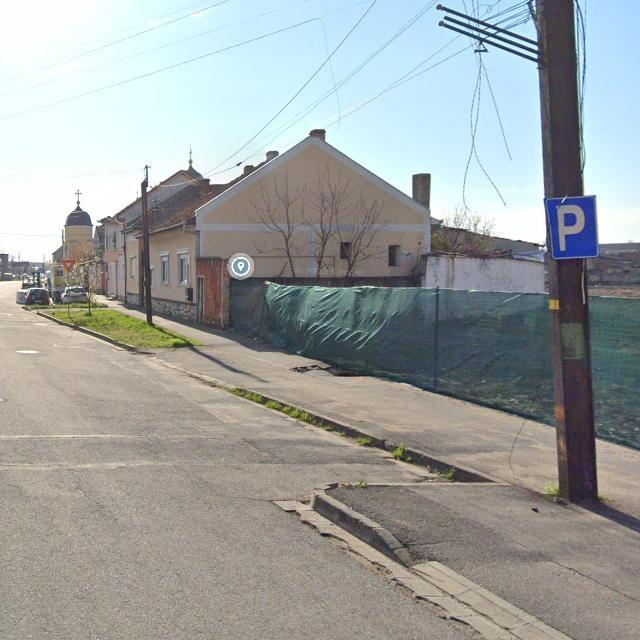prio_give_way: (61, 260, 76, 273)
